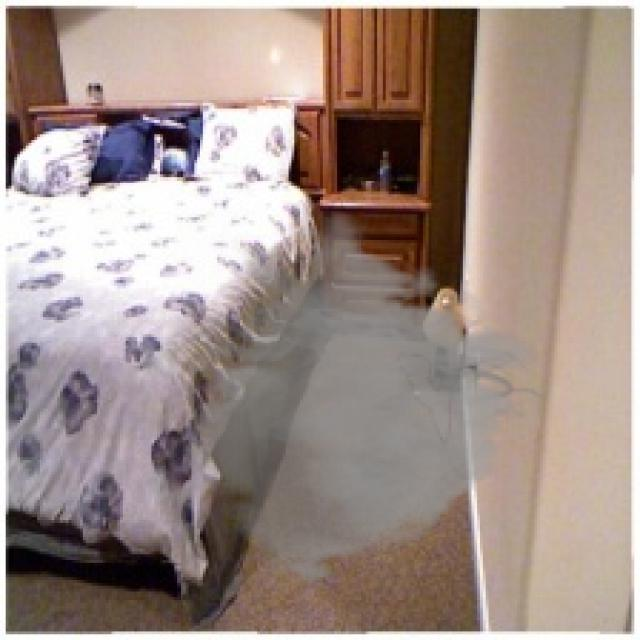smoke: (148, 208, 552, 586)
